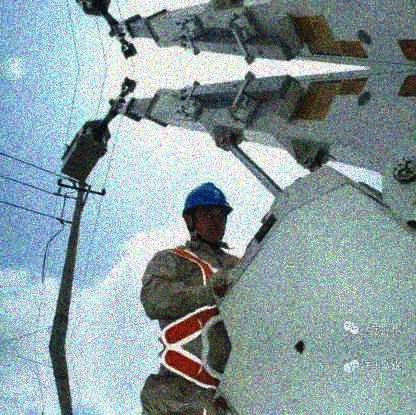helmet: (180, 184, 237, 245)
